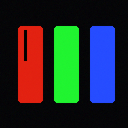4 line_v: (24, 30, 26, 60)
